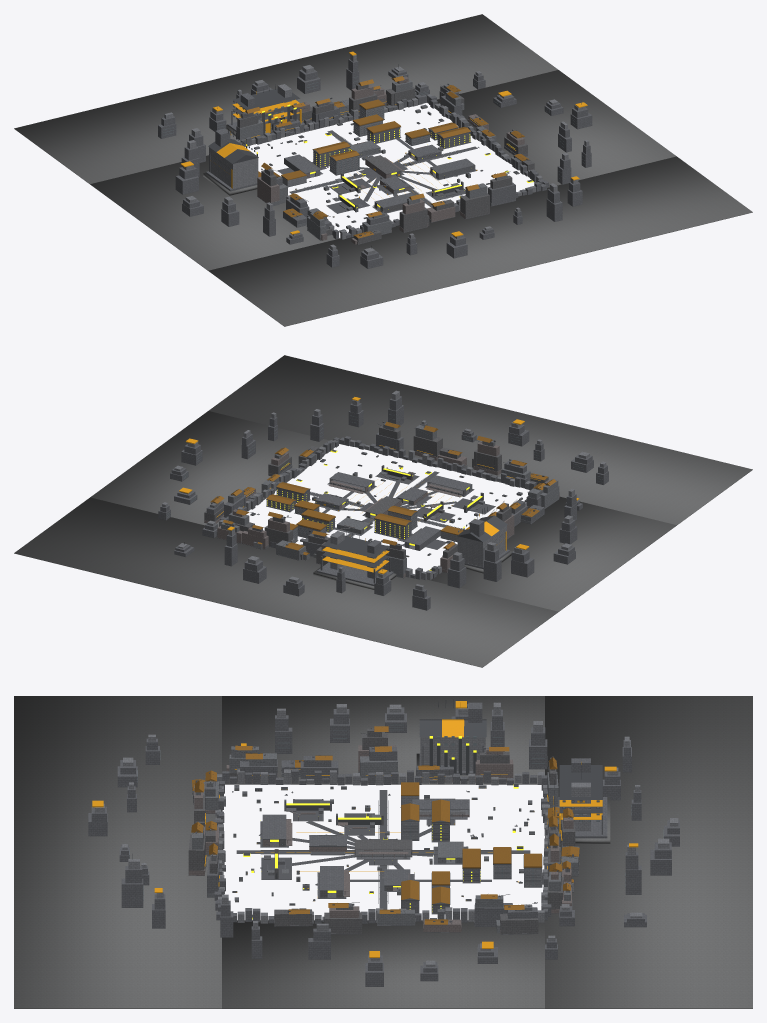
3 views of the same model, one above another, from view 1: azimuth 30°, elevation 25°; view 2: azimuth 150°, elevation 25°; view 3: azimuth 270°, elevation 25° (orthographic). The views are drawn at different scales.
Visible parts, largest first — view 1: HB_z07_LOD0_terrain, HB_z07_LOD0_wall_alt, HB_z07_LOD0_wall_weathered, HB_z07_LOD0_wall, HB_z07_LOD0_roof, HB_z07_LOD0_wall_cool, HB_z07_LOD0_trim, HB_z07_LOD0_wall_warm, HB_z07_LOD0_road, HB_z07_LOD0_LANDMARK_1_wall, HB_z07_LOD0_LANDMARK_0_trim; view 2: HB_z07_LOD0_terrain, HB_z07_LOD0_wall_alt, HB_z07_LOD0_wall_weathered, HB_z07_LOD0_wall, HB_z07_LOD0_wall_cool, HB_z07_LOD0_roof, HB_z07_LOD0_wall_warm, HB_z07_LOD0_trim, HB_z07_LOD0_road, HB_z07_LOD0_LANDMARK_0_trim, HB_z07_LOD0_LANDMARK_1_wall, HB_z07_LOD0_LANDMARK_0_wall_alt (+2 smaller); view 3: HB_z07_LOD0_terrain, HB_z07_LOD0_wall_alt, HB_z07_LOD0_wall, HB_z07_LOD0_wall_weathered, HB_z07_LOD0_roof, HB_z07_LOD0_wall_cool, HB_z07_LOD0_road, HB_z07_LOD0_wall_warm, HB_z07_LOD0_trim, HB_z07_LOD0_LANDMARK_1_trim, HB_z07_LOD0_LANDMARK_0_trim, HB_z07_LOD0_LANDMARK_1_wall (+5 smaller).
Boxes of the visible parts, x1=… form: HB_z07_LOD0_terrain: x1=14, y1=14, x2=752, y2=326; HB_z07_LOD0_wall_alt: x1=158, y1=59, x2=592, y2=268; HB_z07_LOD0_wall_weathered: x1=237, y1=84, x2=534, y2=244; HB_z07_LOD0_wall: x1=164, y1=54, x2=589, y2=254; HB_z07_LOD0_roof: x1=245, y1=76, x2=528, y2=238; HB_z07_LOD0_wall_cool: x1=236, y1=79, x2=507, y2=239; HB_z07_LOD0_trim: x1=217, y1=64, x2=581, y2=248; HB_z07_LOD0_wall_warm: x1=257, y1=76, x2=524, y2=244; HB_z07_LOD0_road: x1=261, y1=110, x2=482, y2=232; HB_z07_LOD0_LANDMARK_1_wall: x1=209, y1=147, x2=258, y2=188; HB_z07_LOD0_LANDMARK_0_trim: x1=232, y1=84, x2=299, y2=135; HB_z07_LOD0_terrain: x1=14, y1=355, x2=752, y2=667; HB_z07_LOD0_wall_alt: x1=158, y1=396, x2=608, y2=610; HB_z07_LOD0_wall_weathered: x1=204, y1=425, x2=548, y2=564; HB_z07_LOD0_wall: x1=162, y1=390, x2=606, y2=590; HB_z07_LOD0_wall_cool: x1=210, y1=423, x2=559, y2=577; HB_z07_LOD0_roof: x1=210, y1=421, x2=556, y2=555; HB_z07_LOD0_wall_warm: x1=204, y1=441, x2=559, y2=577; HB_z07_LOD0_trim: x1=184, y1=423, x2=564, y2=570; HB_z07_LOD0_road: x1=257, y1=471, x2=494, y2=556; HB_z07_LOD0_LANDMARK_0_trim: x1=322, y1=531, x2=389, y2=573; HB_z07_LOD0_LANDMARK_1_wall: x1=457, y1=525, x2=506, y2=566; HB_z07_LOD0_LANDMARK_0_wall_alt: x1=317, y1=540, x2=393, y2=585; HB_z07_LOD0_terrain: x1=14, y1=696, x2=752, y2=1008; HB_z07_LOD0_wall_alt: x1=88, y1=707, x2=679, y2=986; HB_z07_LOD0_wall: x1=94, y1=702, x2=678, y2=966; HB_z07_LOD0_wall_weathered: x1=188, y1=728, x2=575, y2=934; HB_z07_LOD0_roof: x1=191, y1=726, x2=579, y2=924; HB_z07_LOD0_wall_cool: x1=192, y1=746, x2=579, y2=933; HB_z07_LOD0_road: x1=232, y1=790, x2=537, y2=909; HB_z07_LOD0_wall_warm: x1=189, y1=745, x2=573, y2=933; HB_z07_LOD0_trim: x1=132, y1=728, x2=576, y2=923; HB_z07_LOD0_LANDMARK_1_trim: x1=419, y1=699, x2=486, y2=775; HB_z07_LOD0_LANDMARK_0_trim: x1=554, y1=765, x2=602, y2=821; HB_z07_LOD0_LANDMARK_1_wall: x1=420, y1=737, x2=485, y2=770.
Bounding box in the file's own units: 746 × 79.56 × 746.
14 materials, 12 textured.
